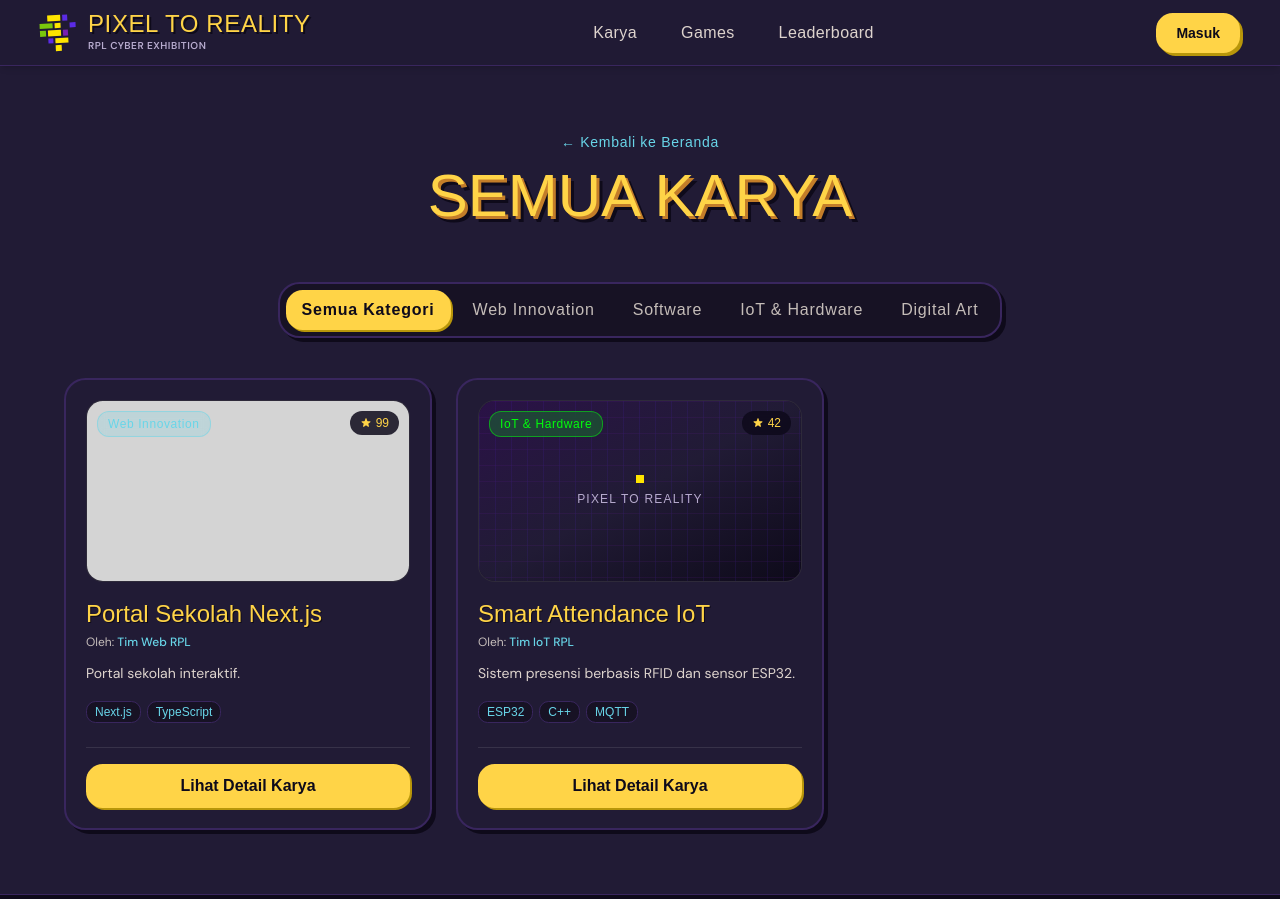
Test case: KaryaPage (/karya) › filters karya list by category tab and shows empty state when no karya matches
Click the tab "Web Innovation". click: coordinates (534, 310)
box: [457,290,611,330]
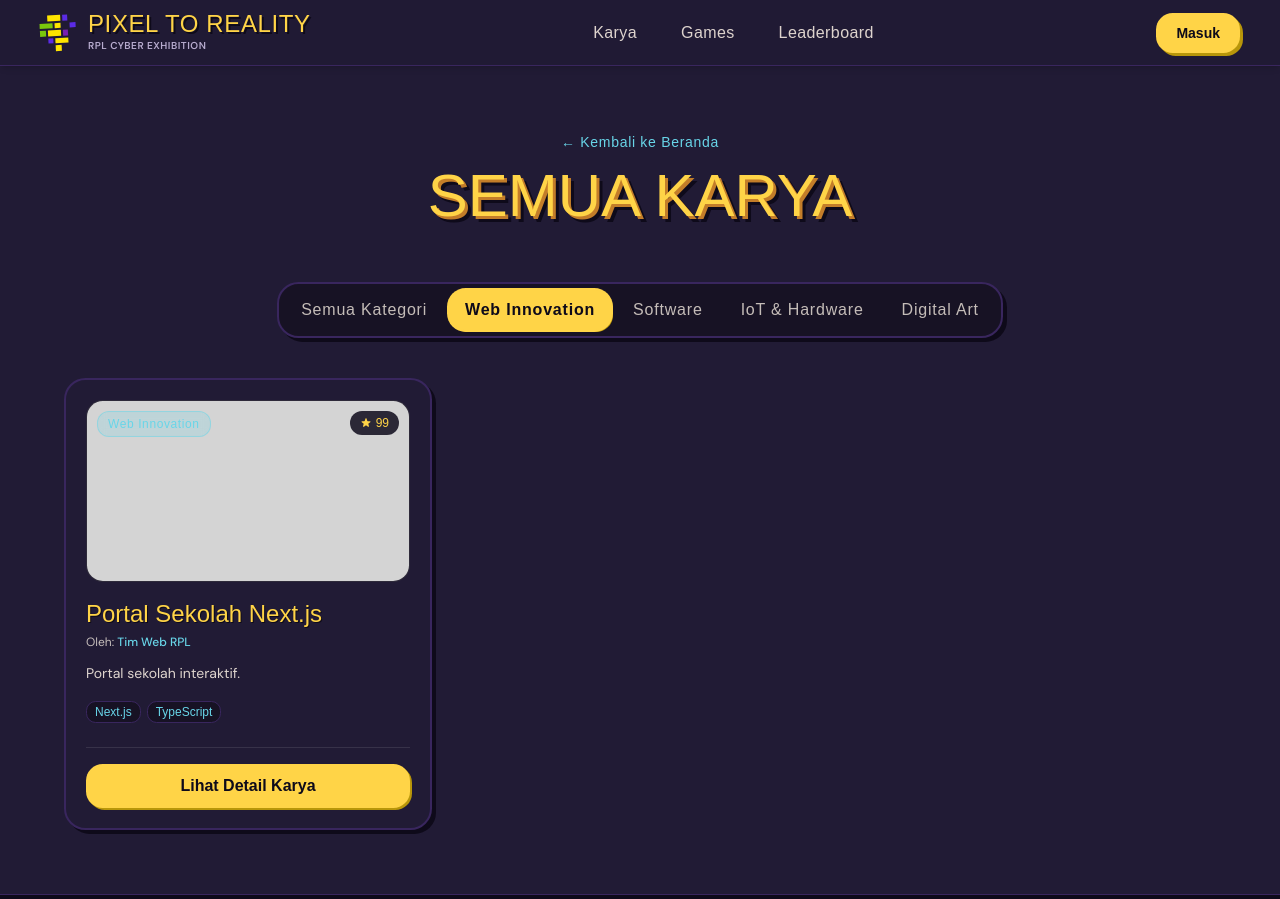
expect the heading "Portal Sekolah Next.js" is shown: met, box [86,600,322,627]
expect the heading "Smart Attendance IoT" is gone: met
Click the tab "Digital Art". click: coordinates (940, 310)
box: [886,290,995,330]
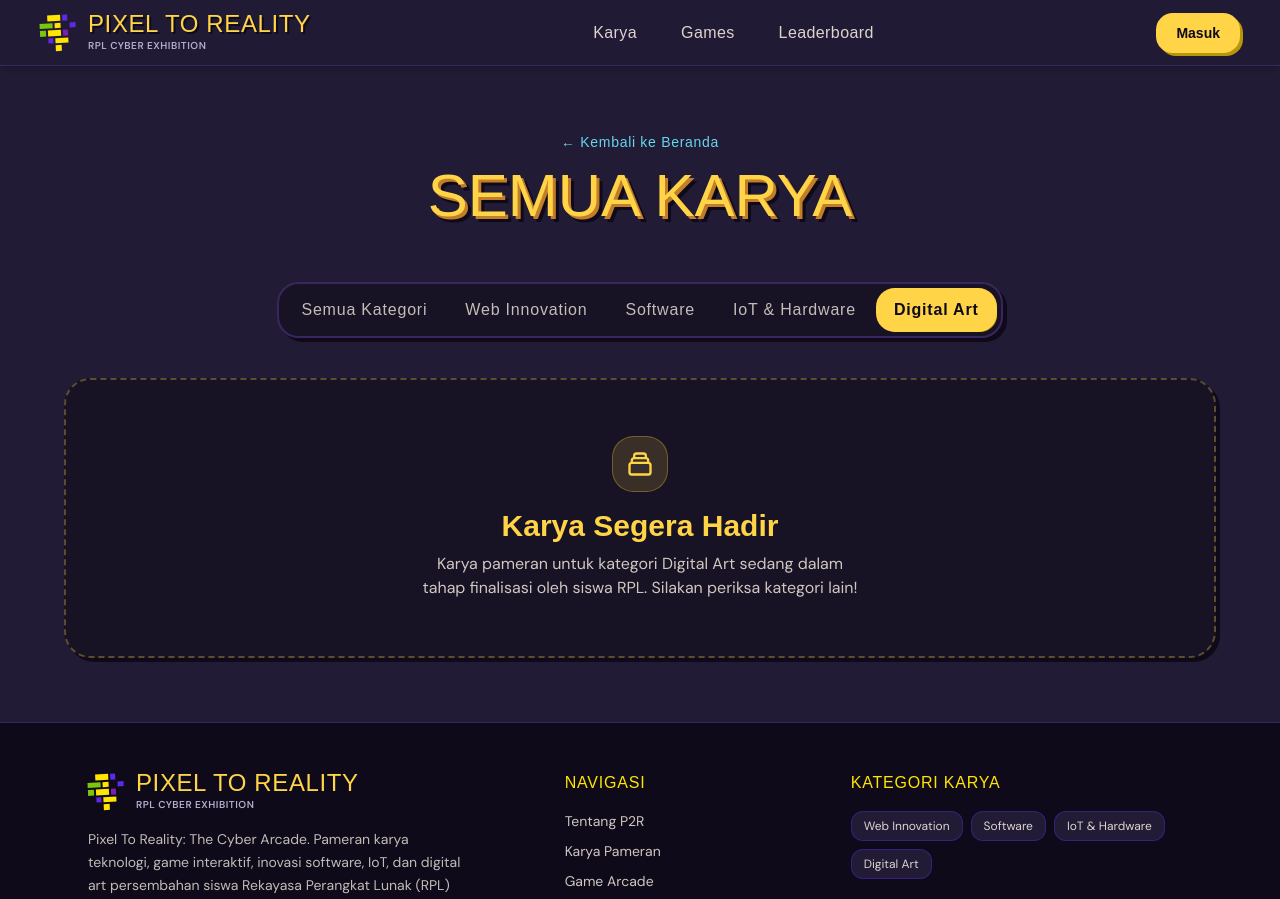
expect the heading "Karya Segera Hadir" is shown: met, box [502,508,778,544]
